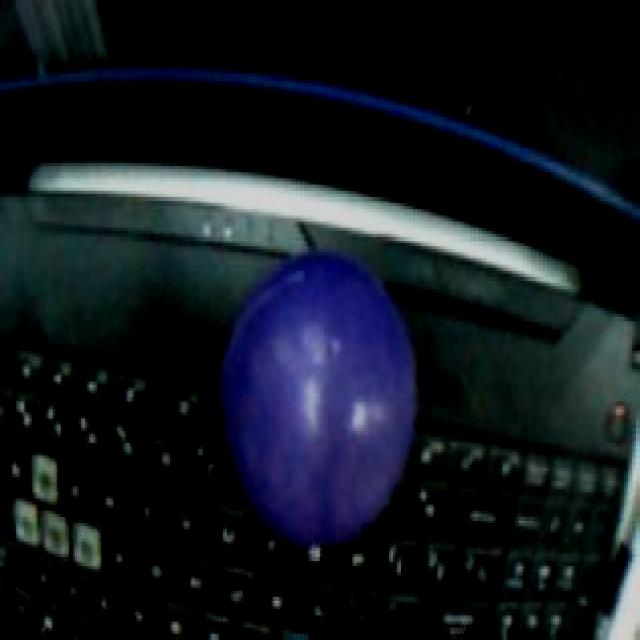BallPurple: (220, 251, 418, 547)
